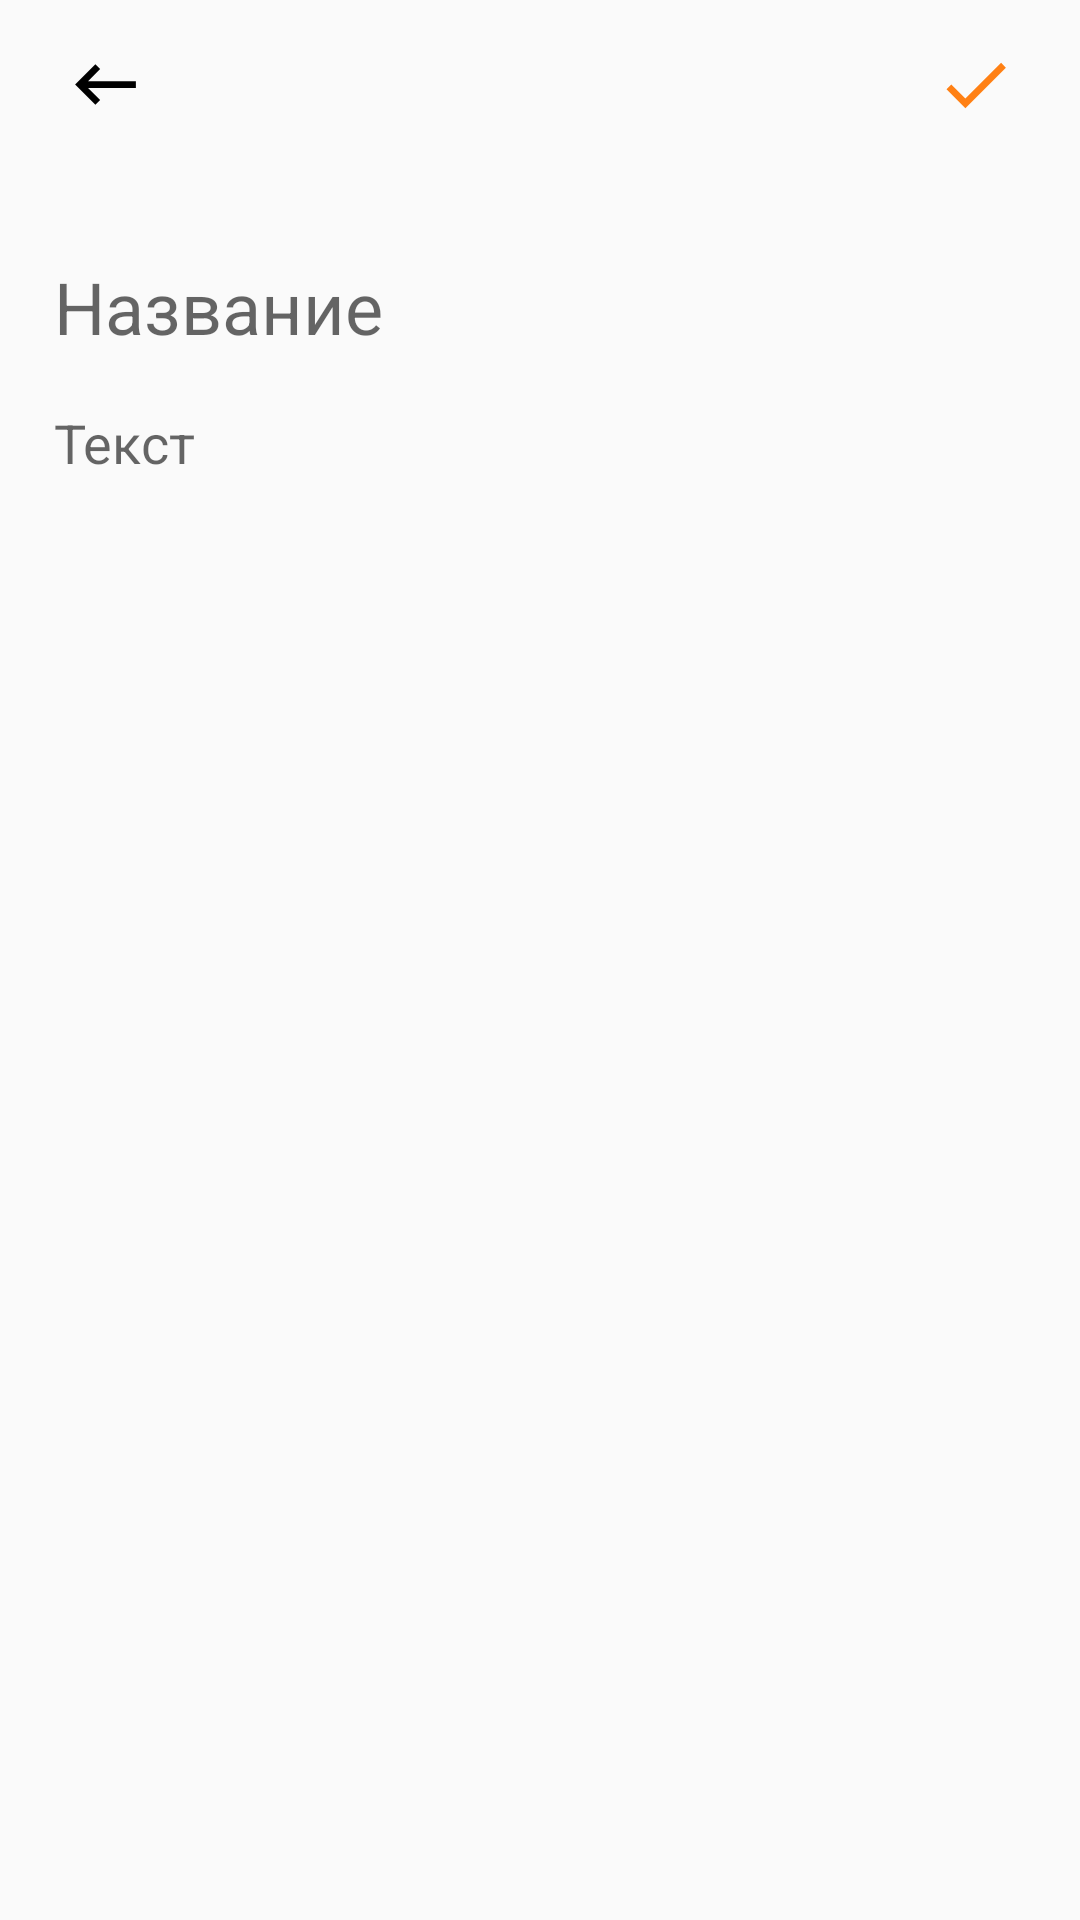

Named icons in this screenshot (1080 × 1920) and their centers, (x,y):
back arrow: (105,84)
check: (976,85)
